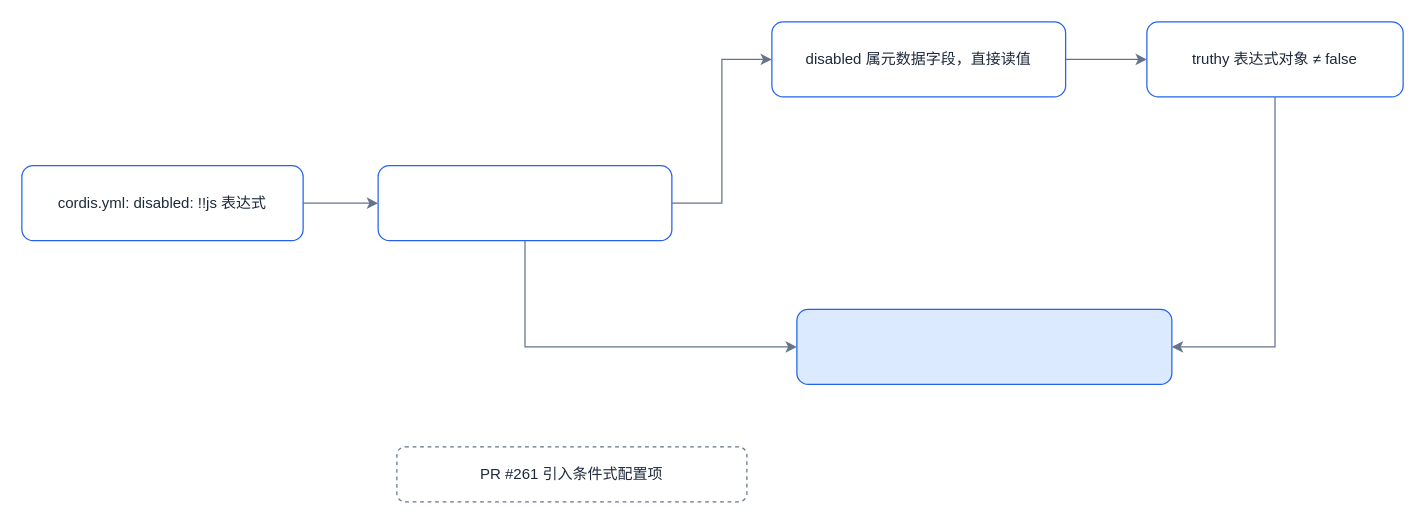
This 1425x524 diagram has some shape labels left out. Here are the shapes that lost their labels. From the top down, the box of each, then its label:
(377, 164, 672, 241): Loader 仅对 config 内部插值 !!js
(796, 308, 1172, 384): fs 工具栈恒禁用 · UNKNOWN_TOOL
